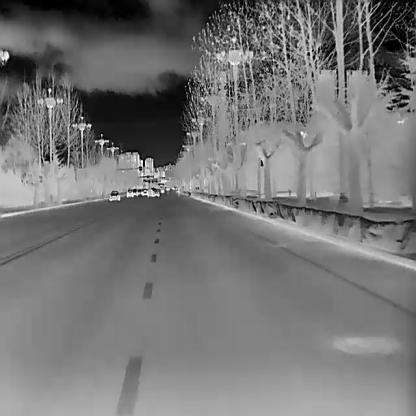car: (108, 190, 120, 202), (147, 186, 159, 197), (126, 188, 133, 197), (140, 188, 146, 196), (133, 188, 138, 196), (160, 187, 164, 192)
